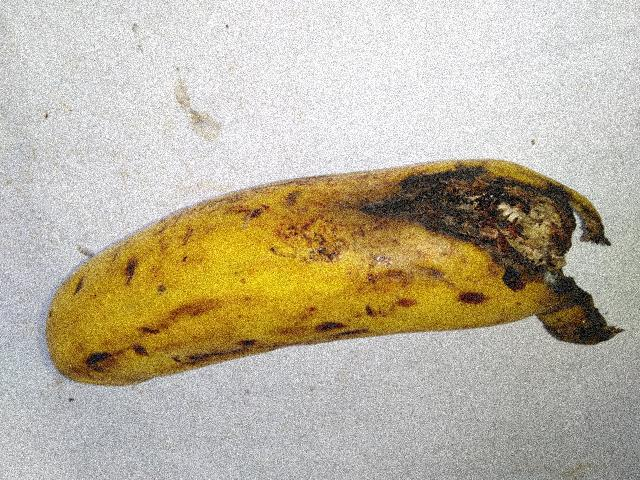ripe: (33, 161, 356, 391)
rotten: (306, 124, 618, 368)
